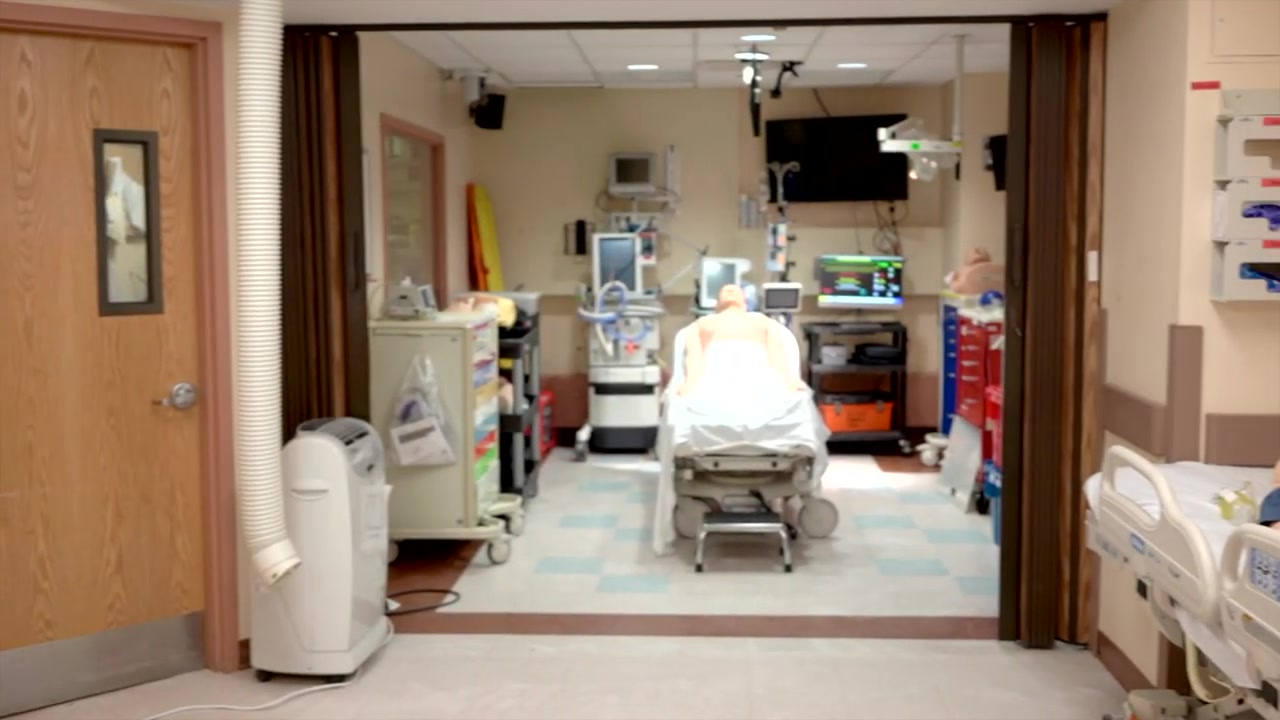TV: (766, 113, 910, 202)
bedrail: (1100, 446, 1215, 618), (1214, 522, 1280, 653)
bedside_monitor: (815, 254, 908, 308), (699, 259, 741, 310), (613, 155, 653, 190), (763, 285, 799, 310)
breathing_tube: (577, 283, 646, 362)
handle: (152, 386, 200, 410), (478, 352, 496, 365), (481, 422, 498, 433), (961, 330, 980, 338), (960, 345, 979, 353), (961, 374, 980, 382), (961, 361, 980, 368), (961, 397, 977, 405), (482, 441, 496, 449), (946, 324, 956, 331), (946, 339, 956, 346), (946, 372, 956, 379), (946, 352, 956, 359)
hospital_bed: (1083, 446, 1280, 720)
iv_pole: (765, 159, 799, 222)
medical_drawer: (365, 311, 527, 565), (957, 315, 990, 428), (939, 305, 958, 443)
operating_bed: (655, 283, 837, 533)
ventilator: (585, 234, 660, 449)
